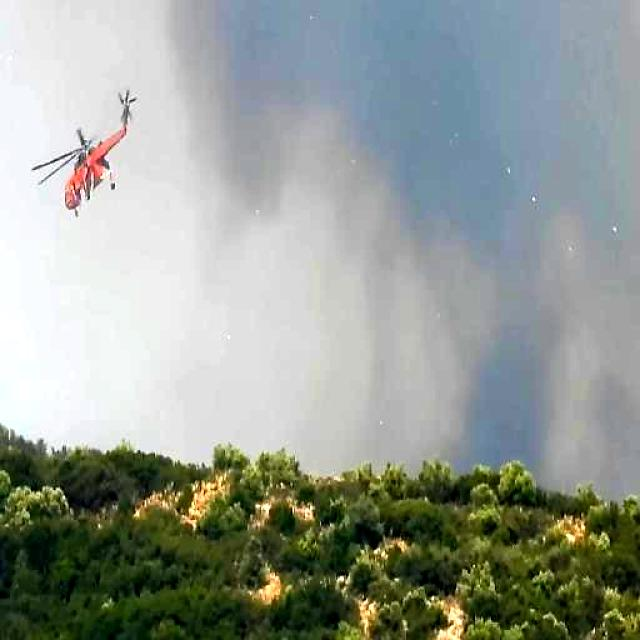drone: (28, 76, 139, 228)
